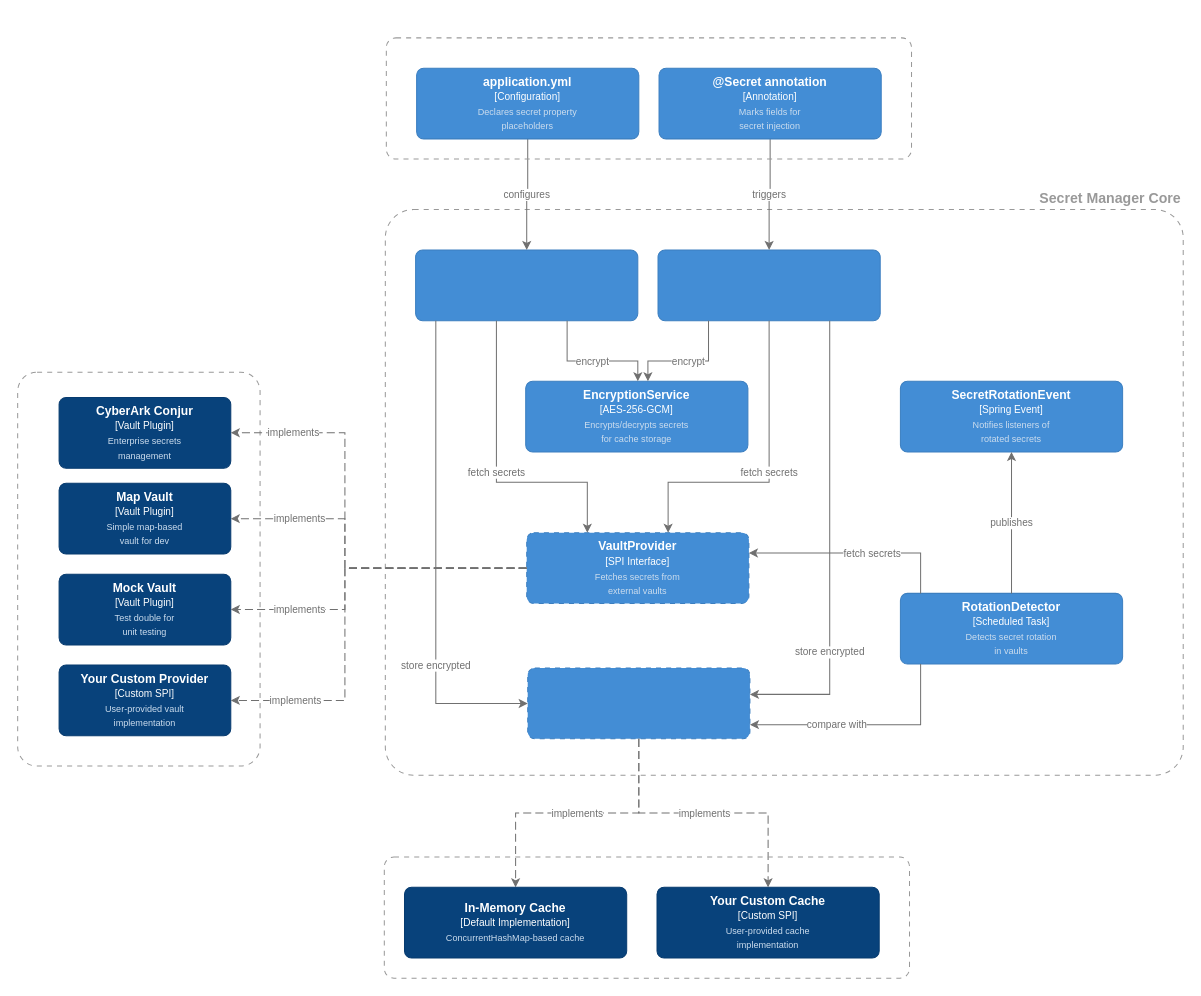
The diagram is 1201 pixels wide and 996 high, and some of its shapes have lost their labels. The box of each missing label's shape, as (x1, y1, x2, y2) in pixels:
AnnotationProcessor [Bean Post Processor] Injects secrets into annotated fields: (657, 249, 880, 321)
PropertySource [Spring PropertySource] Resolves secret placeholders at startup: (415, 249, 638, 321)
Secret Cache Implementations: (383, 856, 910, 978)
SecretCache [SPI Interface] Stores encrypted secrets locally: (527, 667, 750, 739)
Vault Provider Implementations: (17, 371, 260, 766)
Your Application: (385, 37, 912, 159)
